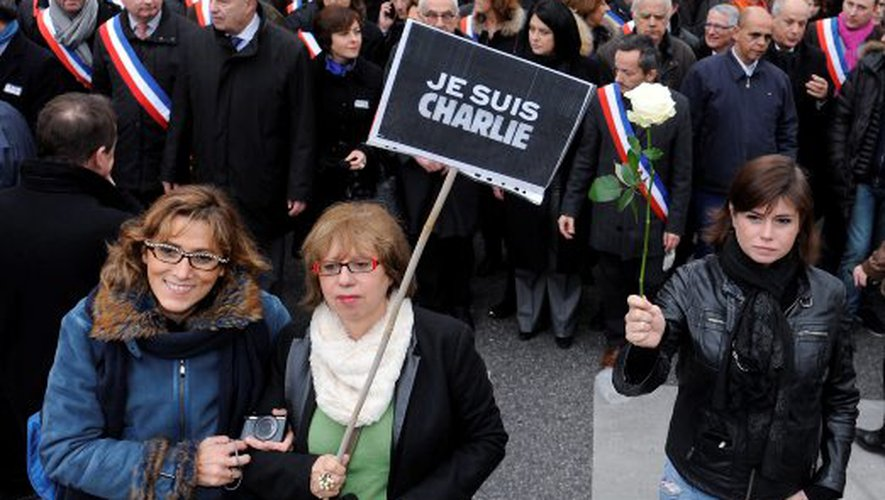without_mask: (319, 250, 386, 319), (156, 229, 212, 307), (738, 196, 793, 259), (528, 20, 554, 59), (334, 29, 363, 62), (642, 6, 666, 45), (613, 59, 641, 90), (705, 18, 729, 49), (781, 13, 804, 45), (425, 5, 453, 31), (747, 24, 769, 55), (848, 2, 866, 26)
